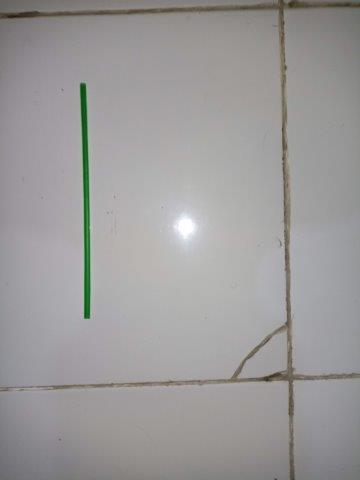sedotan: (80, 83, 91, 318)
